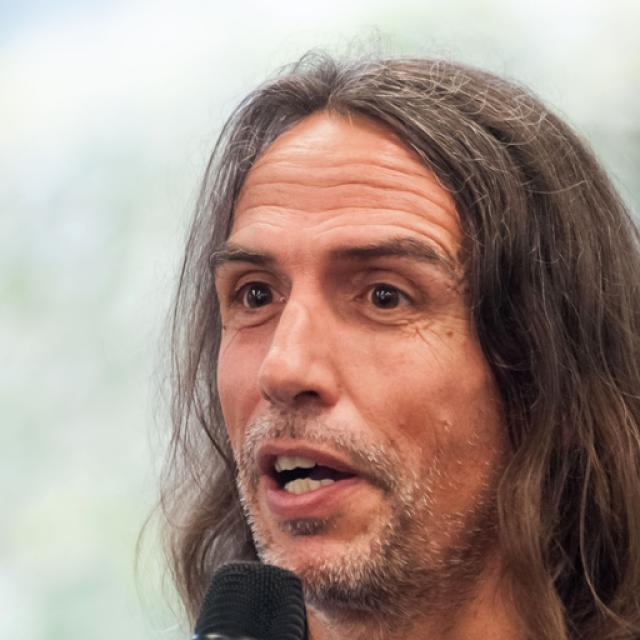0_rostro_limpio: (216, 64, 640, 598)
